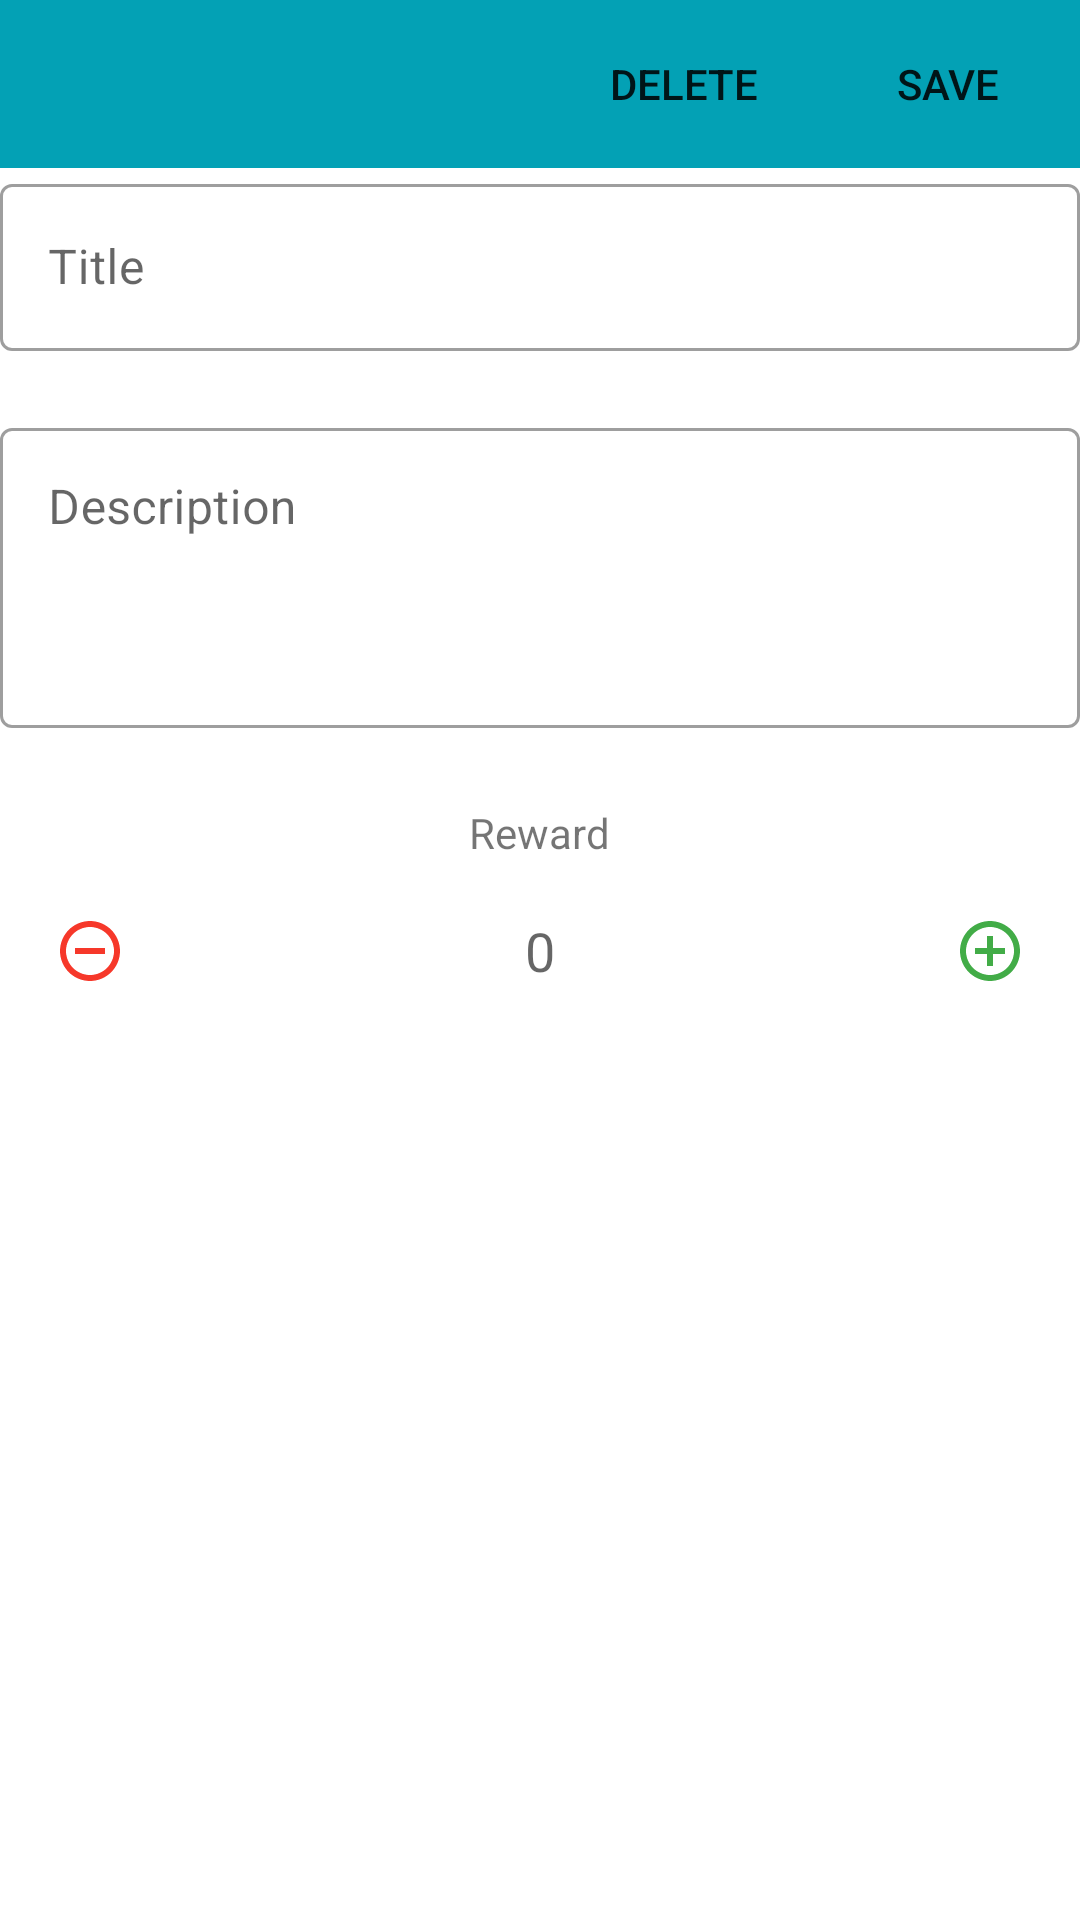

Screen size 1080x1920. Icon name, then its box in pixels as (x1, y1, x2, y2):
minus: (60, 921, 120, 981)
plus: (960, 921, 1020, 981)
